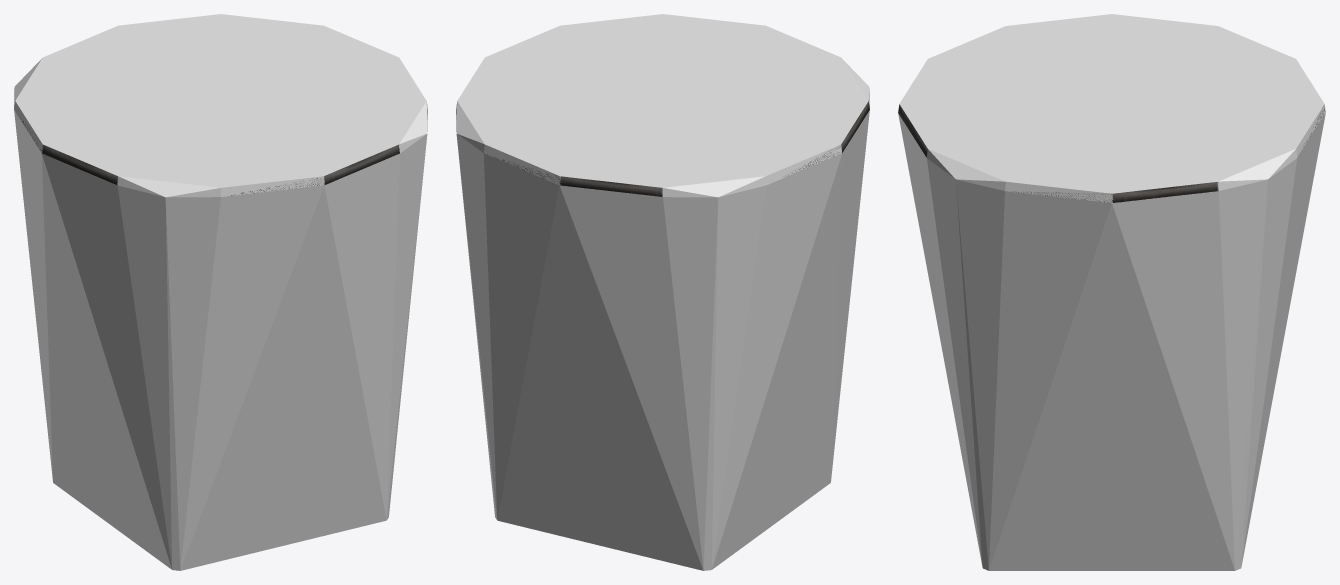
File: brazier_pedestal.low.webp.glb
3 renders of one model, left to right at view 1: azimuth 30°, elevation 25°; view 2: azimuth 150°, elevation 25°; view 3: azimuth 270°, elevation 25°, orthographic. The views are drawn at different scales.
Parts seen in each view (by area): view 1: COL, LOD1_body; view 2: COL, LOD1_body; view 3: COL, LOD1_body.
Boxes of the visible parts, x1,y1,x2,y2 form: COL: (14,14,427,570); LOD1_body: (19,118,399,195); COL: (456,14,869,570); LOD1_body: (487,101,869,196); COL: (898,14,1325,570); LOD1_body: (898,104,1325,202).
Size of the model in its own units: 1.72 by 1.83 by 1.72.
Materials: 2 (1 with a texture image).
